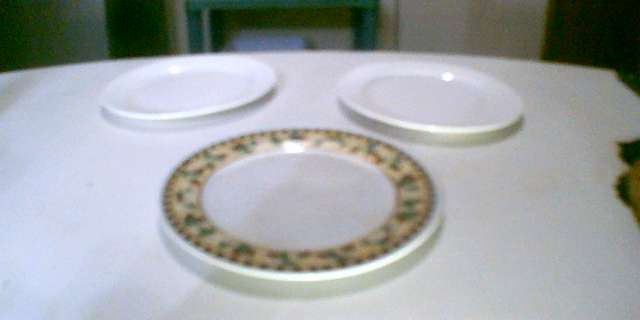empty_plate: (145, 118, 446, 289), (329, 53, 532, 144), (99, 52, 280, 127)
